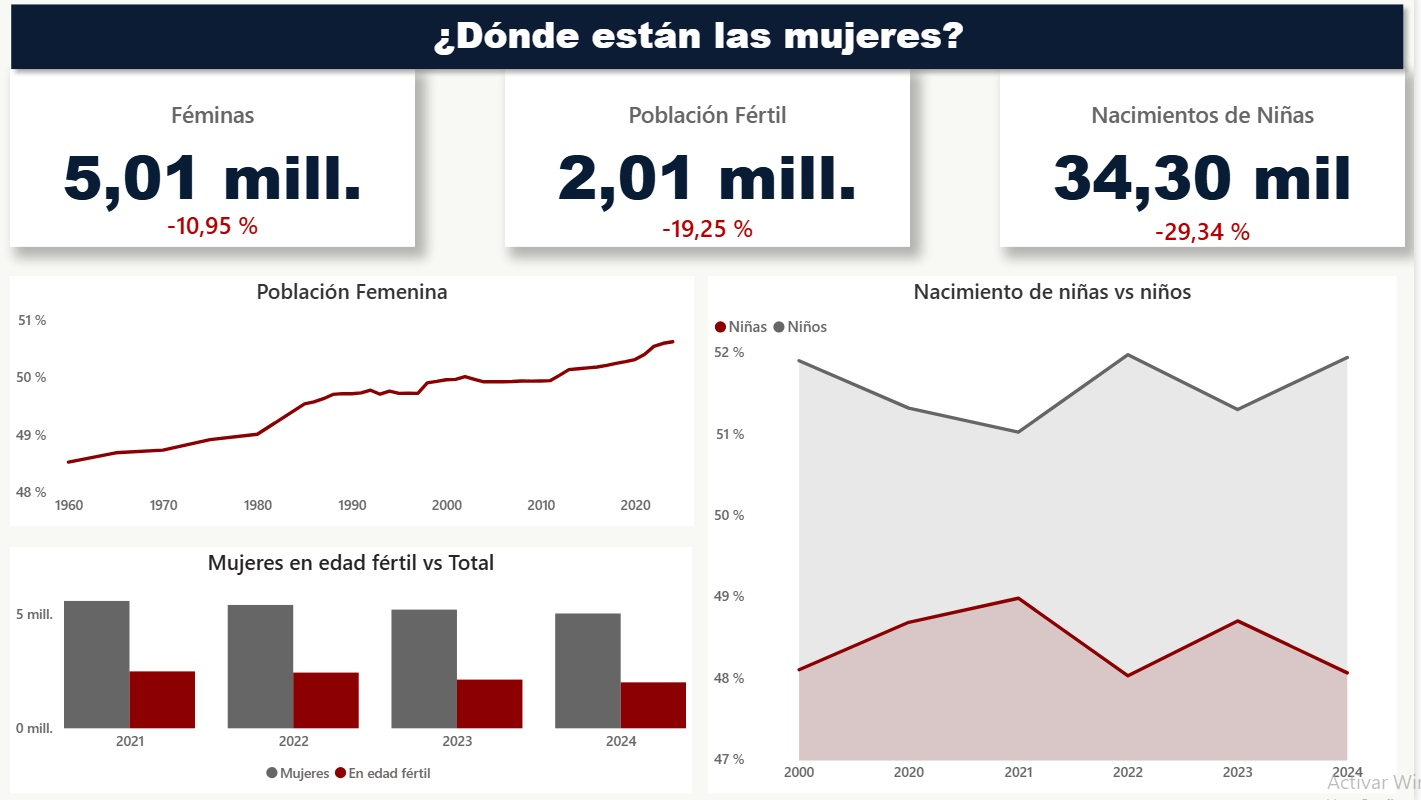

This screenshot's page, from the dashboard's own definition file:
{"tool":"powerbi","page":{"name":"Mujeres","canvas":[1280,720],"ordinal":1},"visuals":[{"type":"cardVisual","fields":{"Data":["Sum(Población General.Femenino)"]},"box":[31.9,65.9,360.1,159.5],"z":0},{"type":"cardVisual","fields":{"Data":["Sum(Mujeres_Fertiles.PFertil)"]},"box":[471.8,65.9,360.1,159.5],"z":1000},{"type":"cardVisual","fields":{"Data":["Natalidad por Año.Ninnas"]},"box":[911.6,65.9,360.1,159.5],"z":2000},{"type":"shape","box":[24.3,0,1255.7,75.9],"z":3000},{"type":"textbox","box":[123.3,8,1041.4,58.2],"z":4000},{"type":"clusteredColumnChart","title":"Mujeres en edad fértil vs Total","fields":{"Category":["Dim_Anos.Anno"],"Y":["Sum(Población General.Femenino)","Sum(Mujeres_Fertiles.PFertil)"]},"box":[31.9,491.8,606,219.2],"z":5000},{"type":"lineChart","title":"Nacimiento de niñas vs niños","fields":{"Category":["Dim_Anos.Anno"],"Y":["Natalidad por Año.NenasP","Natalidad por Año.boys"]},"box":[652.3,251.1,612.2,459.9],"z":6000},{"type":"lineChart","title":"Población Femenina","fields":{"Category":["Población General.Año"],"Y":["Población General.MujeresP"]},"box":[31.9,251.1,608.1,222.3],"z":7000},{"type":"card","fields":{"Values":["Población General.VarMuj"]},"box":[31.9,180.1,360.1,52.5],"z":8000},{"type":"card","fields":{"Values":["Mujeres_Fertiles.VarFertil"]},"box":[472.3,183.2,360.1,52.5],"z":9000},{"type":"card","fields":{"Values":["Natalidad por Año.VarNenas"]},"box":[911.6,186.2,360.1,52.5],"z":10000}]}

Visuals, with their boxes on the page's 1280x720 design canvas (x1, y1, x2, y2). These are canvas units, not pixel positions in the 1421x800 screenshot, which may show the page scaled, cropped or inside an application window:
cardVisual - Sum(Población General.Femenino): 32,66,392,225
cardVisual - Sum(Mujeres_Fertiles.PFertil): 472,66,832,225
cardVisual - Natalidad por Año.Ninnas: 912,66,1272,225
shape: 24,0,1280,76
textbox: 123,8,1165,66
"Mujeres en edad fértil vs Total" clusteredColumnChart: 32,492,638,711
"Nacimiento de niñas vs niños" lineChart: 652,251,1264,711
"Población Femenina" lineChart: 32,251,640,473
card - Población General.VarMuj: 32,180,392,233
card - Mujeres_Fertiles.VarFertil: 472,183,832,236
card - Natalidad por Año.VarNenas: 912,186,1272,239
